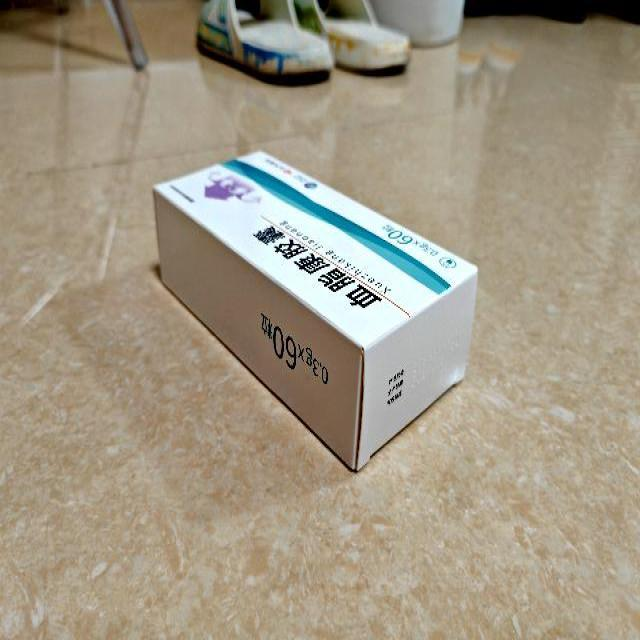box: (154, 149, 478, 472)
